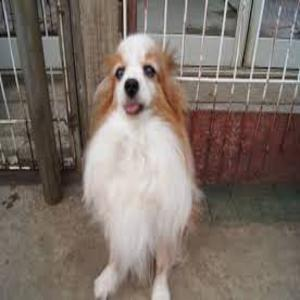yell: (81, 32, 207, 300)
